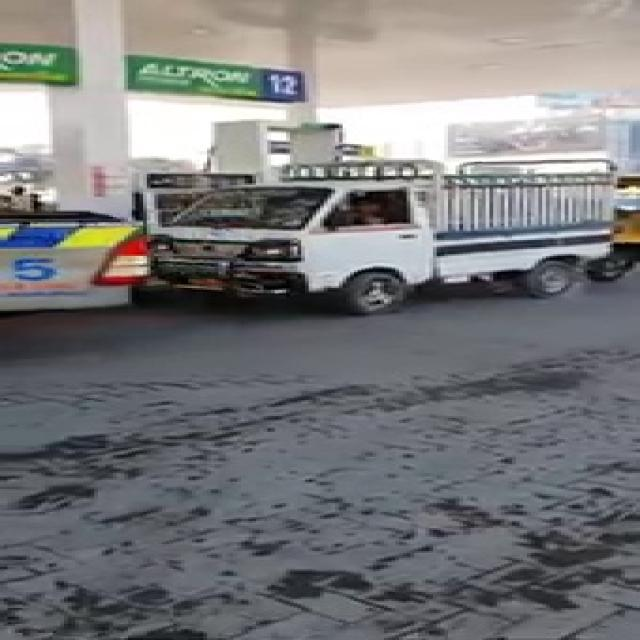police: (0, 196, 168, 331)
